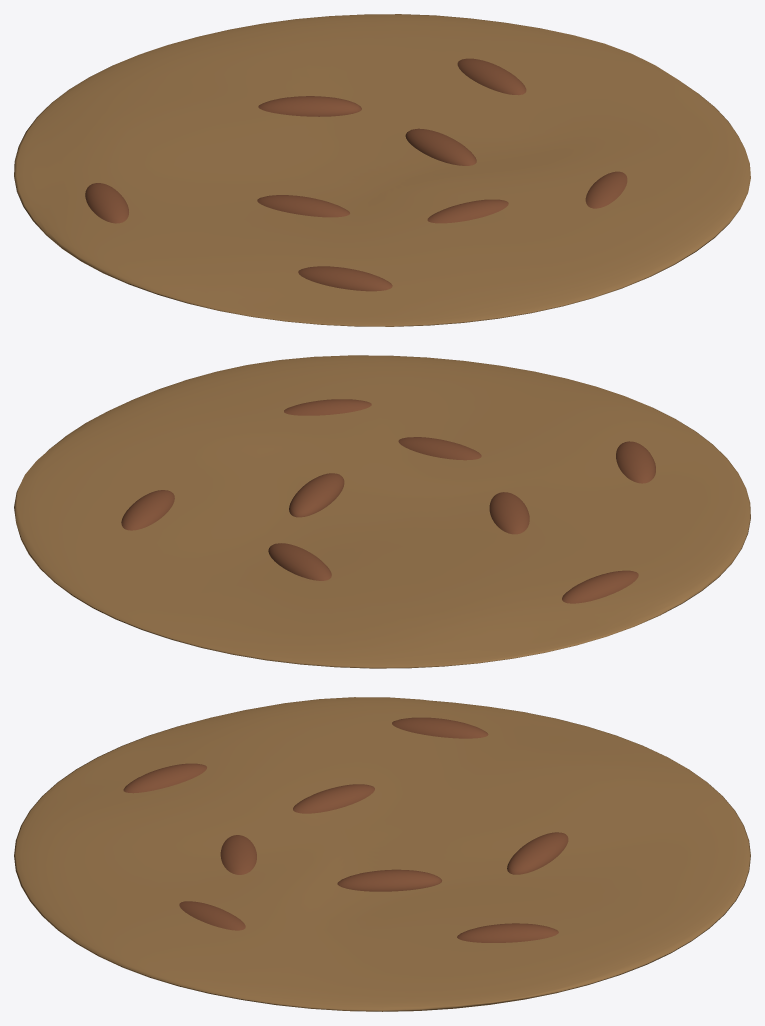
The model's file is burntpulut1.fbx.
3 views of the same model, one above another, from view 1: azimuth 30°, elevation 25°; view 2: azimuth 150°, elevation 25°; view 3: azimuth 270°, elevation 25° (orthographic).
Visible parts, largest first — view 1: Sphere.066, Sphere.072; view 2: Sphere.066, Sphere.072; view 3: Sphere.066, Sphere.072.
Boxes of the visible parts, box(x1,y1,x2,y2) form: Sphere.066: box(14, 14, 750, 326); Sphere.072: box(85, 58, 627, 291); Sphere.066: box(14, 355, 750, 668); Sphere.072: box(121, 399, 655, 603); Sphere.066: box(14, 697, 750, 1011); Sphere.072: box(123, 717, 568, 942).
Bounding box in the file's own units: 193 × 7.19 × 193.
